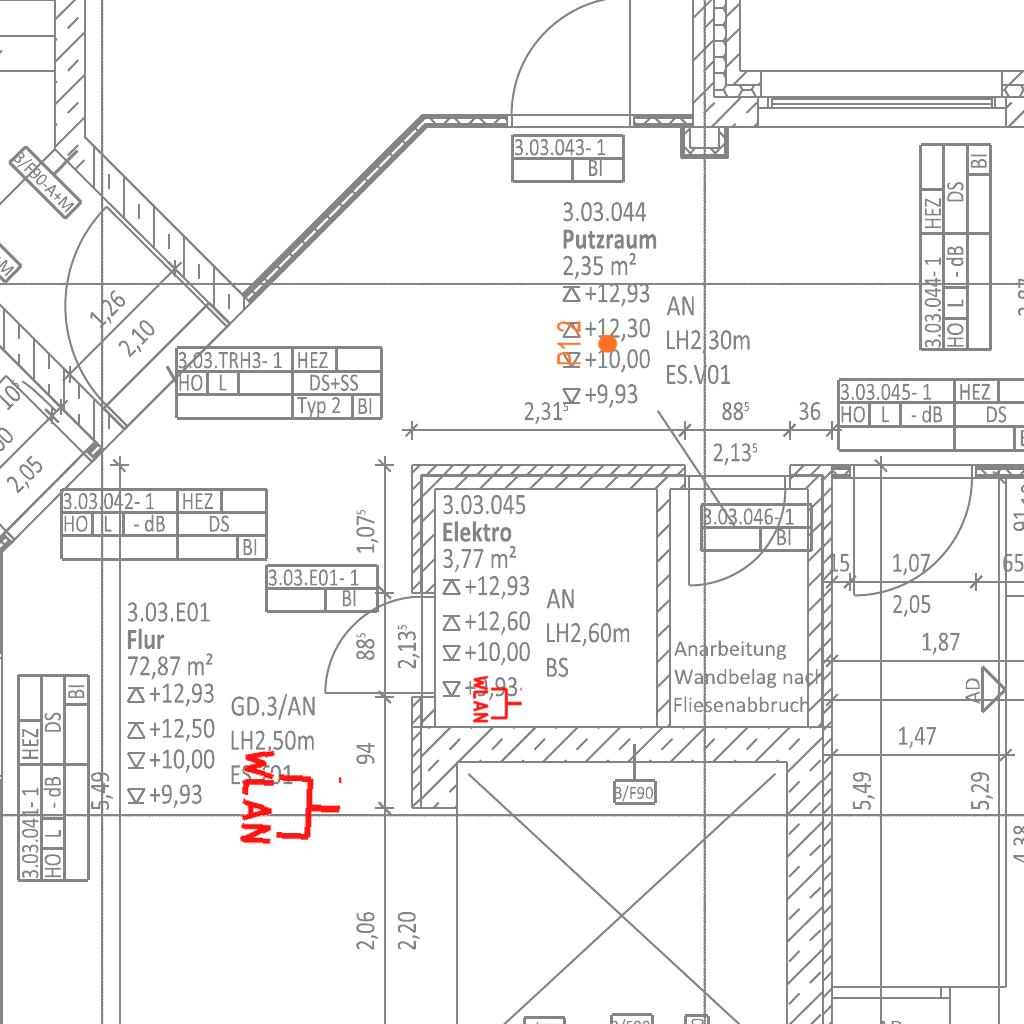Downlight_LED_Einbauleuchten_Flur: (555, 320, 619, 366)
WLAN: (237, 743, 348, 853), (472, 673, 524, 725)
